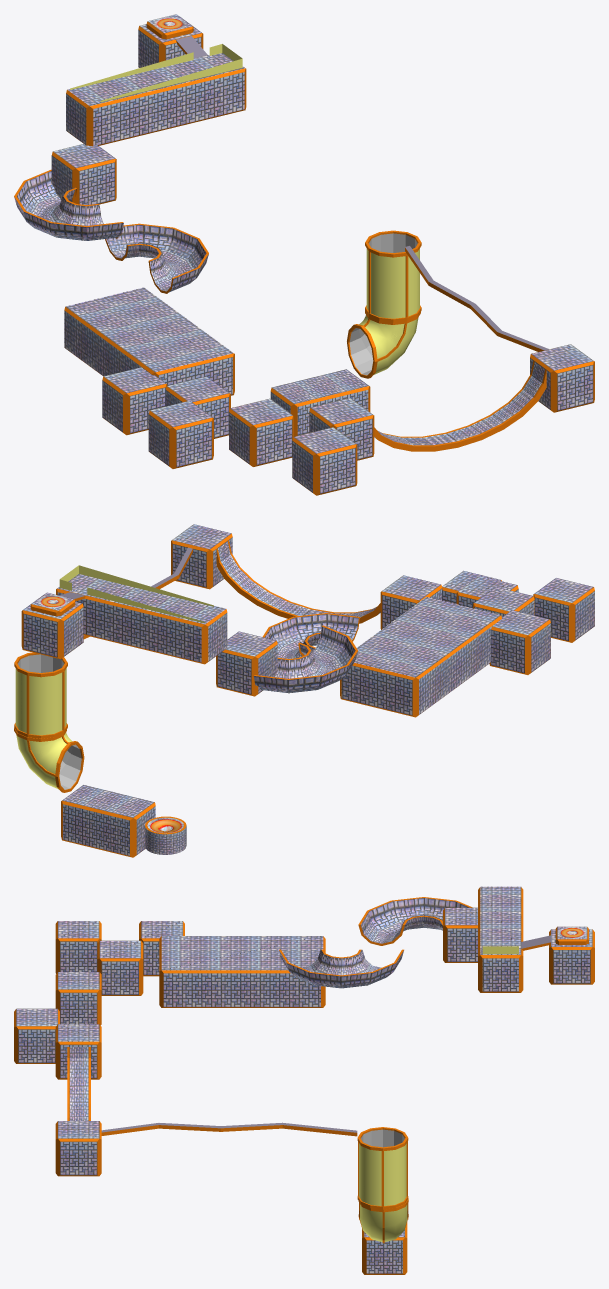
The model's file is Level24.fbx.
3 renders of one model, top to bottom at view 1: azimuth 30°, elevation 25°; view 2: azimuth 150°, elevation 25°; view 3: azimuth 270°, elevation 25°, orthographic. The views are drawn at different scales.
Visible parts, largest first — view 1: Level24; view 2: Level24; view 3: Level24.
Boxes of the visible parts, x1,y1,x2,y2 form: Level24: (14,14,594,495); Level24: (14,524,594,857); Level24: (14,886,594,1274).
Bounding box in the file's own units: 3202 × 2429 × 4189.
Materials: 13 (7 with a texture image).
